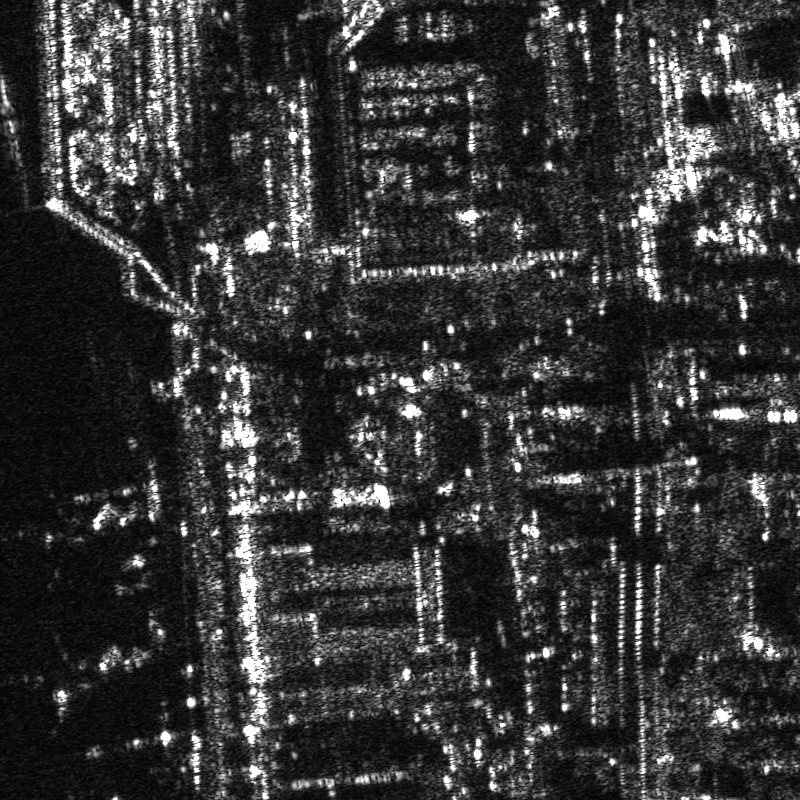ARJ21: (1, 633, 156, 726)
